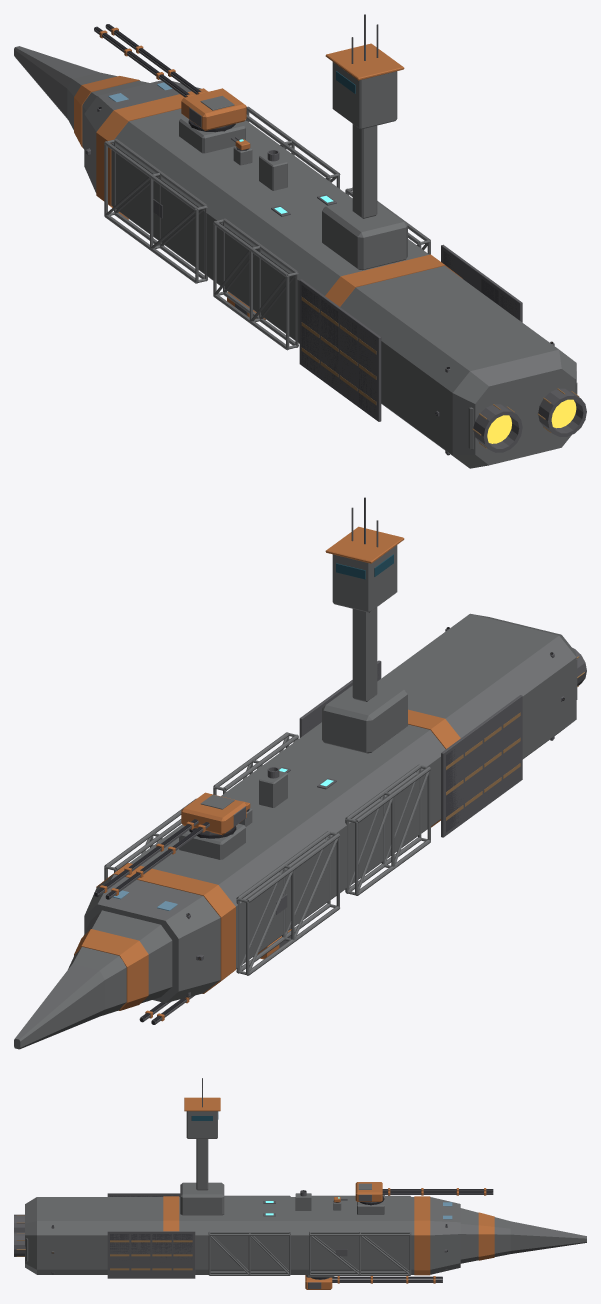
Rendered from mars_gun_cruiser.glb.
The picture shows the model from 3 angles, top to bottom: view 1: azimuth 30°, elevation 25°; view 2: azimuth 150°, elevation 25°; view 3: azimuth 270°, elevation 25°; orthographic projection. The views are drawn at different scales.
Parts seen in each view (by area): view 1: FleetHull, mesh_turret_gun_1, mesh_recoil_gun_1; view 2: FleetHull, mesh_turret_gun_1, mesh_recoil_gun_1; view 3: FleetHull, mesh_recoil_gun_2, mesh_recoil_gun_1, mesh_turret_gun_1, mesh_turret_gun_2.
Boxes of the visible parts, left/top/right/bottom form: FleetHull: left=14, top=14, right=586, bottom=468; mesh_turret_gun_1: left=181, top=88, right=246, bottom=130; mesh_recoil_gun_1: left=94, top=24, right=205, bottom=97; FleetHull: left=14, top=497, right=586, bottom=1049; mesh_turret_gun_1: left=181, top=792, right=246, bottom=835; mesh_recoil_gun_1: left=94, top=819, right=209, bottom=899; FleetHull: left=14, top=1078, right=586, bottom=1279; mesh_recoil_gun_2: left=332, top=1276, right=442, bottom=1283; mesh_recoil_gun_1: left=382, top=1188, right=493, bottom=1195; mesh_turret_gun_1: left=355, top=1182, right=382, bottom=1202; mesh_turret_gun_2: left=305, top=1275, right=332, bottom=1289.
Size of the model in its own units: 46.2 by 114 by 285.
